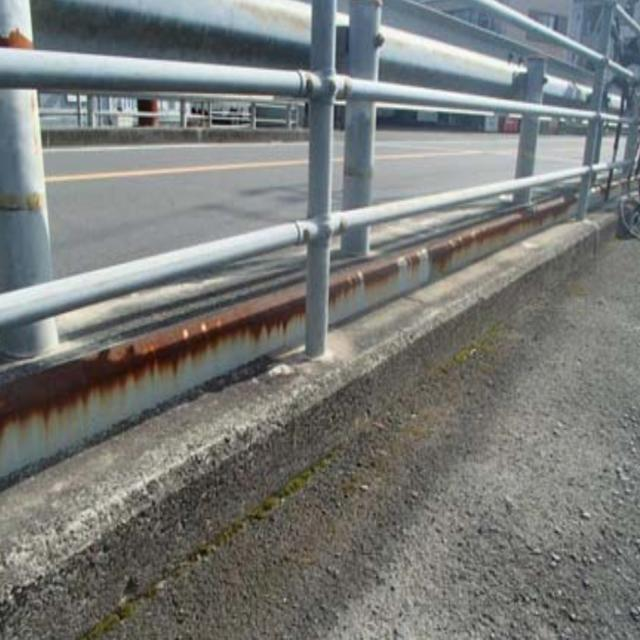corrosion: (6, 284, 307, 433), (347, 191, 579, 280)
